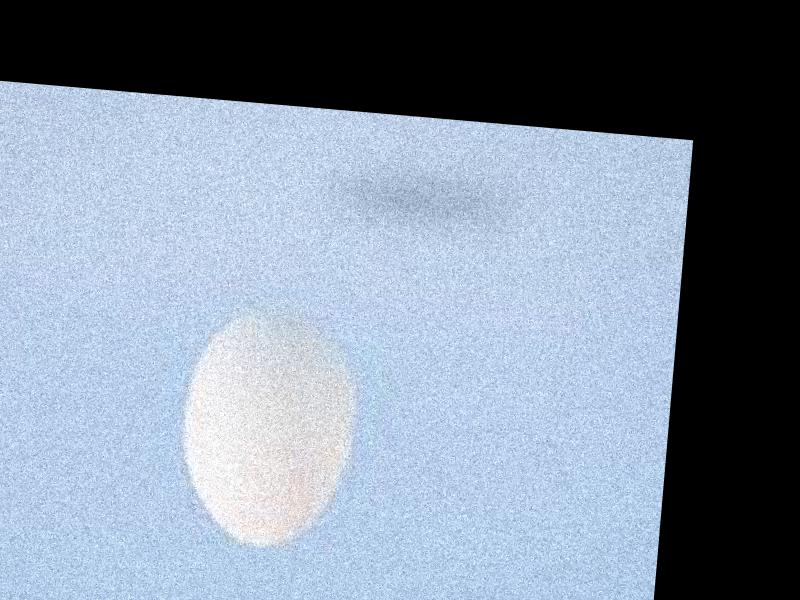Eggs: (173, 301, 365, 554)
